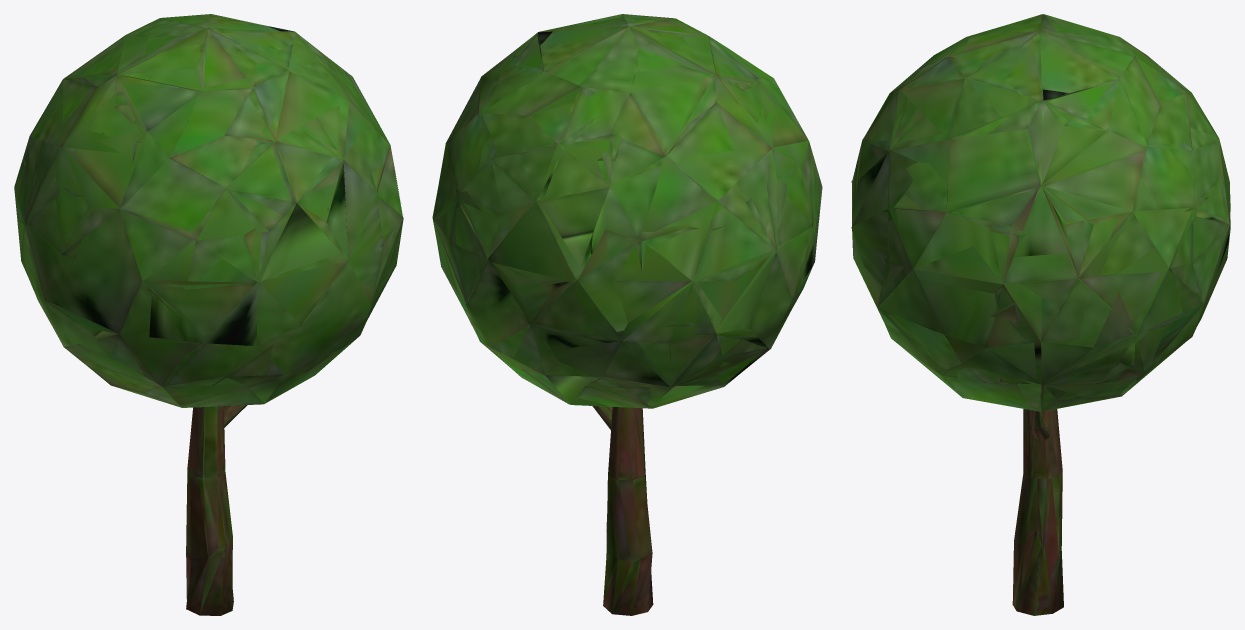
The model's file is 42-round-leafy-tree.glb.
3 renders of one model, left to right at view 1: azimuth 30°, elevation 25°; view 2: azimuth 150°, elevation 25°; view 3: azimuth 270°, elevation 25°, orthographic.
Parts seen in each view (by area): view 1: geometry_0; view 2: geometry_0; view 3: geometry_0.
Part boxes in pixels (x1,y1,x2,y2): geometry_0: (14,14,403,615); geometry_0: (432,14,822,615); geometry_0: (851,14,1230,615).
Size of the model in its own units: 0.5708 by 0.9517 by 0.5704.
Materials: 1 (1 with a texture image).
